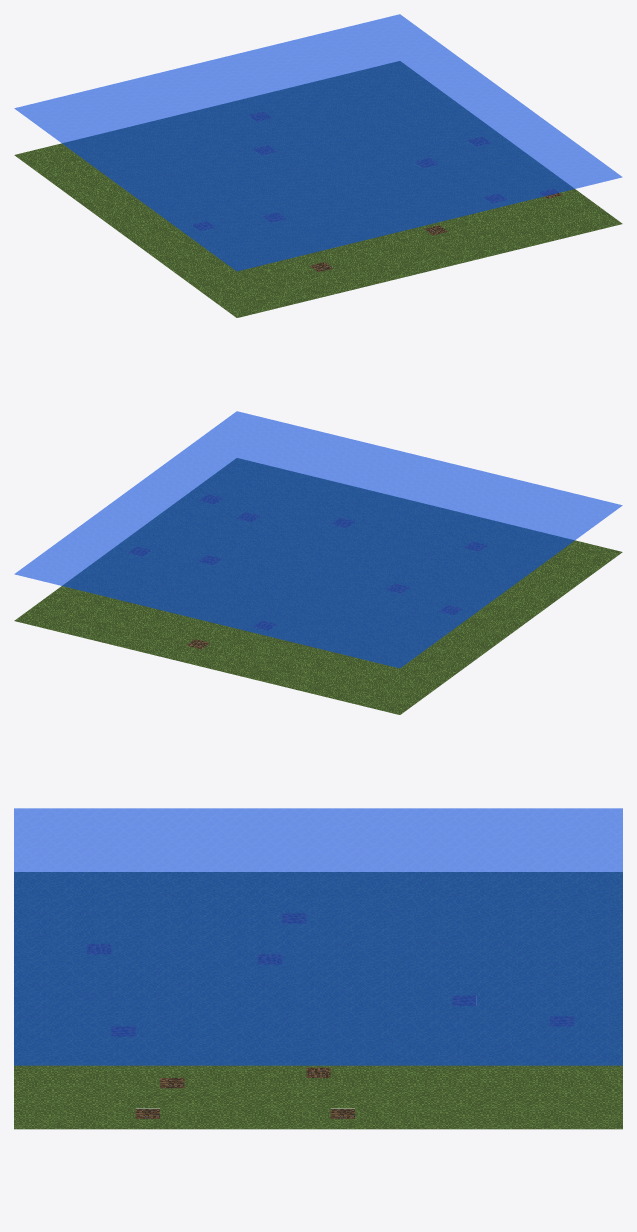
Rendered from chunk175--200-lvl-1-transformed.glb.
3 views of the same model, one above another, from view 1: azimuth 30°, elevation 25°; view 2: azimuth 150°, elevation 25°; view 3: azimuth 270°, elevation 25° (orthographic). The views are drawn at different scales.
Visible parts, largest first — view 1: Stationary_Water, Grass_Block, Dirt; view 2: Stationary_Water, Grass_Block, Dirt; view 3: Stationary_Water, Grass_Block, Dirt.
Boxes of the visible parts, box(x1,y1,x2,y2) form: Stationary_Water: box(14, 14, 622, 271); Grass_Block: box(14, 61, 622, 317); Dirt: box(193, 112, 562, 272); Stationary_Water: box(14, 411, 622, 668); Grass_Block: box(14, 458, 622, 714); Dirt: box(128, 494, 487, 649); Stationary_Water: box(14, 808, 622, 1065); Grass_Block: box(14, 872, 622, 1129); Dirt: box(87, 913, 573, 1118).
Size of the model in its own units: 25 by 6.89 by 25.
Materials: 4 (4 with a texture image).
